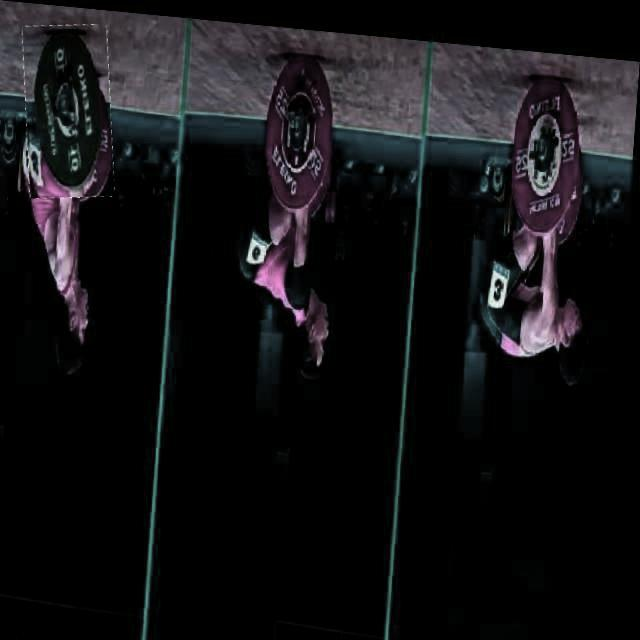barbell: (18, 20, 123, 202)
